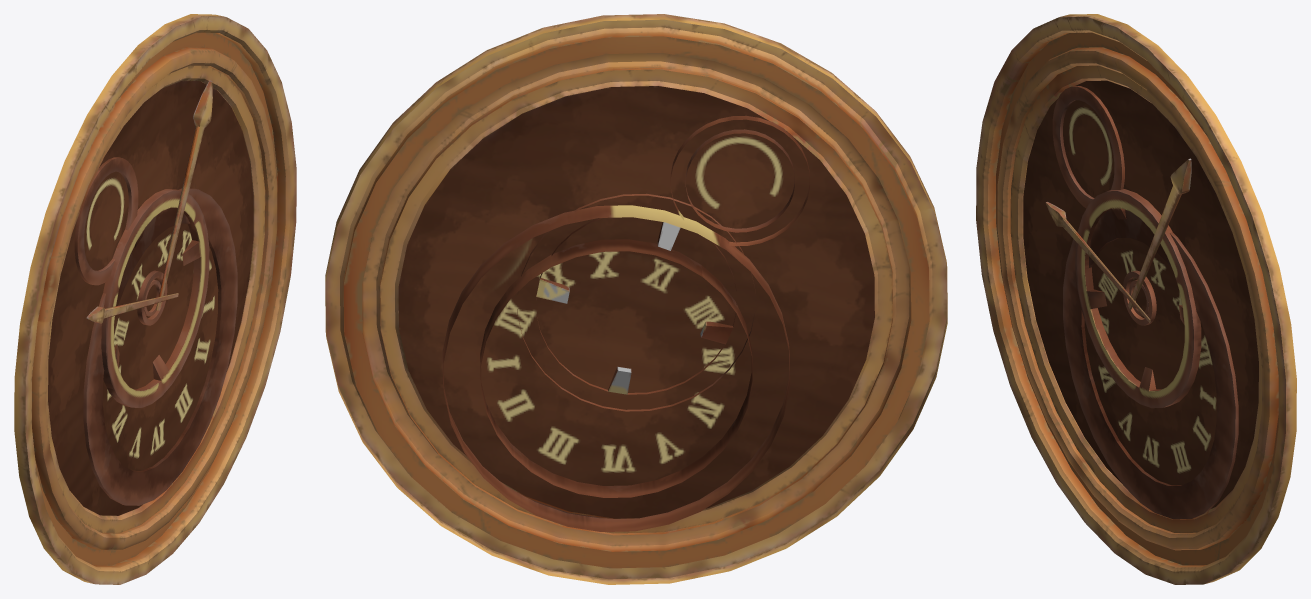
The model's file is Horloge.fbx.
The picture shows the model from 3 angles, left to right: view 1: azimuth 30°, elevation 25°; view 2: azimuth 150°, elevation 25°; view 3: azimuth 270°, elevation 25°; orthographic projection. The views are drawn at different scales.
Parts seen in each view (by area): view 1: Horloge; view 2: Horloge; view 3: Horloge.
Part boxes in pixels (x1=…): Horloge: x1=14, y1=14, x2=296, y2=584; Horloge: x1=325, y1=14, x2=947, y2=584; Horloge: x1=976, y1=14, x2=1296, y2=584.
Bounding box in the file's own units: 0.3472 × 0.4044 × 0.2225.
